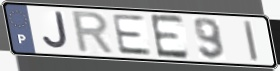9: (192, 16, 227, 62)
E: (148, 13, 192, 61), (109, 13, 155, 57)
I: (242, 19, 261, 64)
J: (41, 11, 71, 52)
R: (70, 10, 117, 57)
